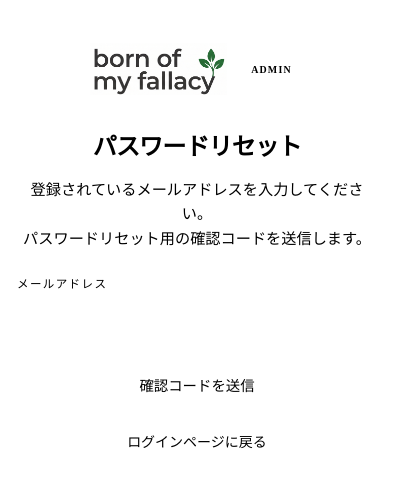
Test: ForgotPasswordPage › ステップ1: メールアドレス入力画面 › バリデーション › 空のメールアドレスで送信するとエラーが表示される
The width and height of the screenshot is (395, 498).
Click the button "確認コードを送信".
click(197, 384)  # box [17,362,377,407]
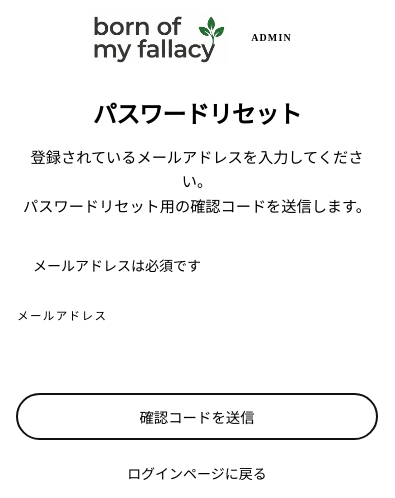
Result: the text "メールアドレスは必須です" is shown at [33,259,201,274]
